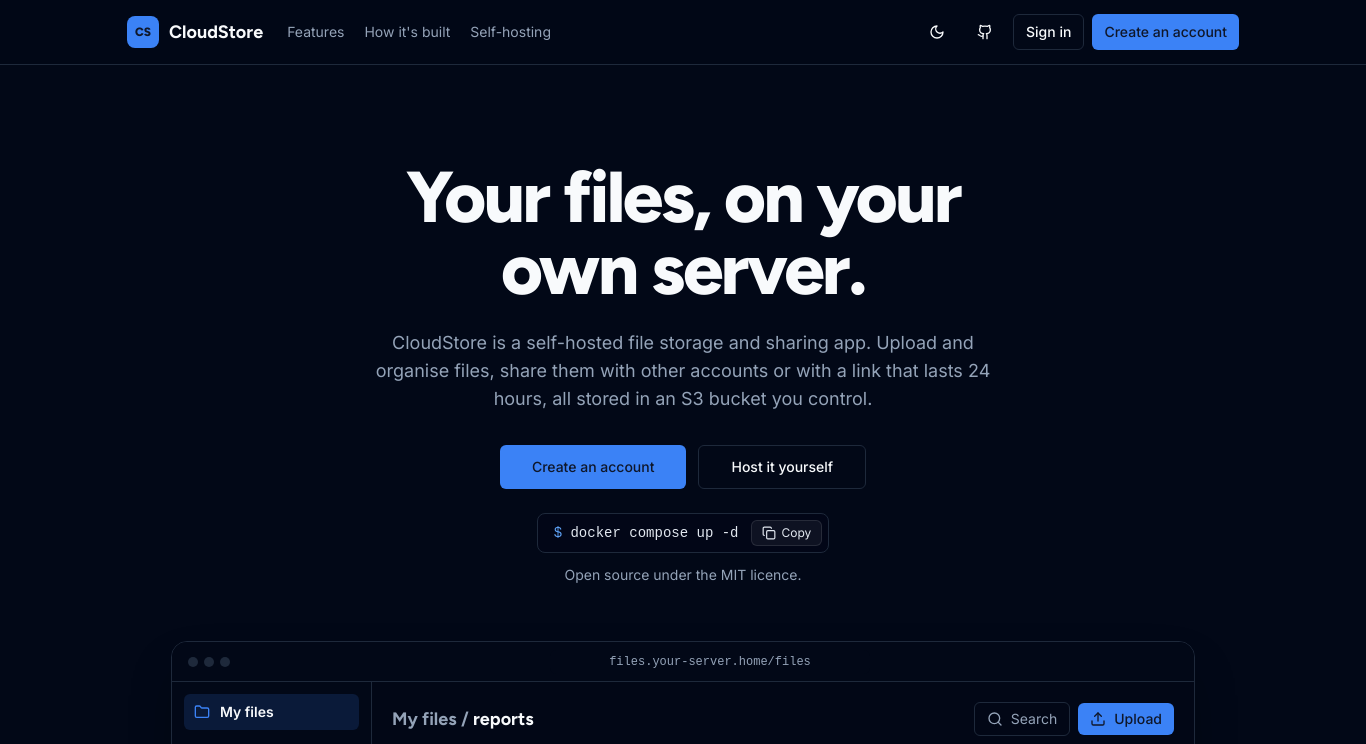
Scenario: LandingPage › copies the install command
Click the button with aria-label "Copy the command" at (786, 533), box [750, 520, 822, 546]
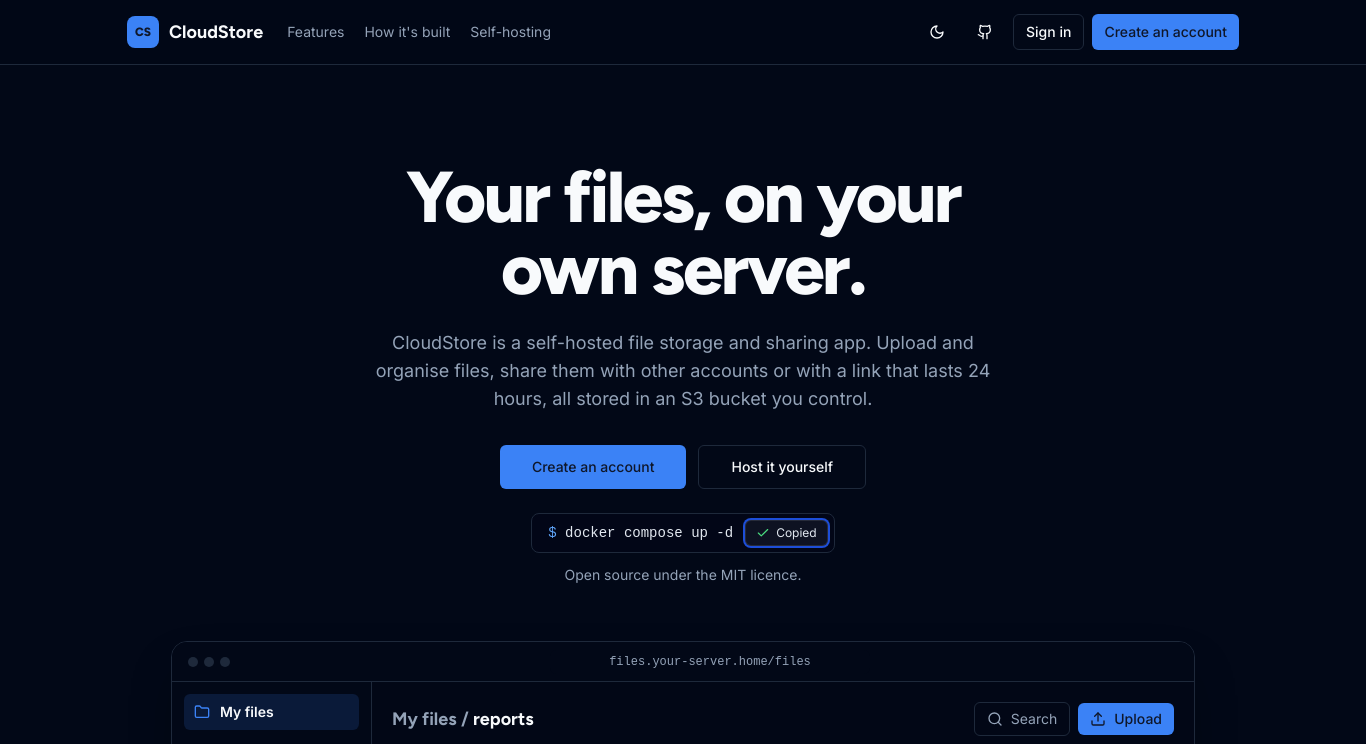
expect the text "Copied" is shown: met, box [776, 525, 817, 541]
